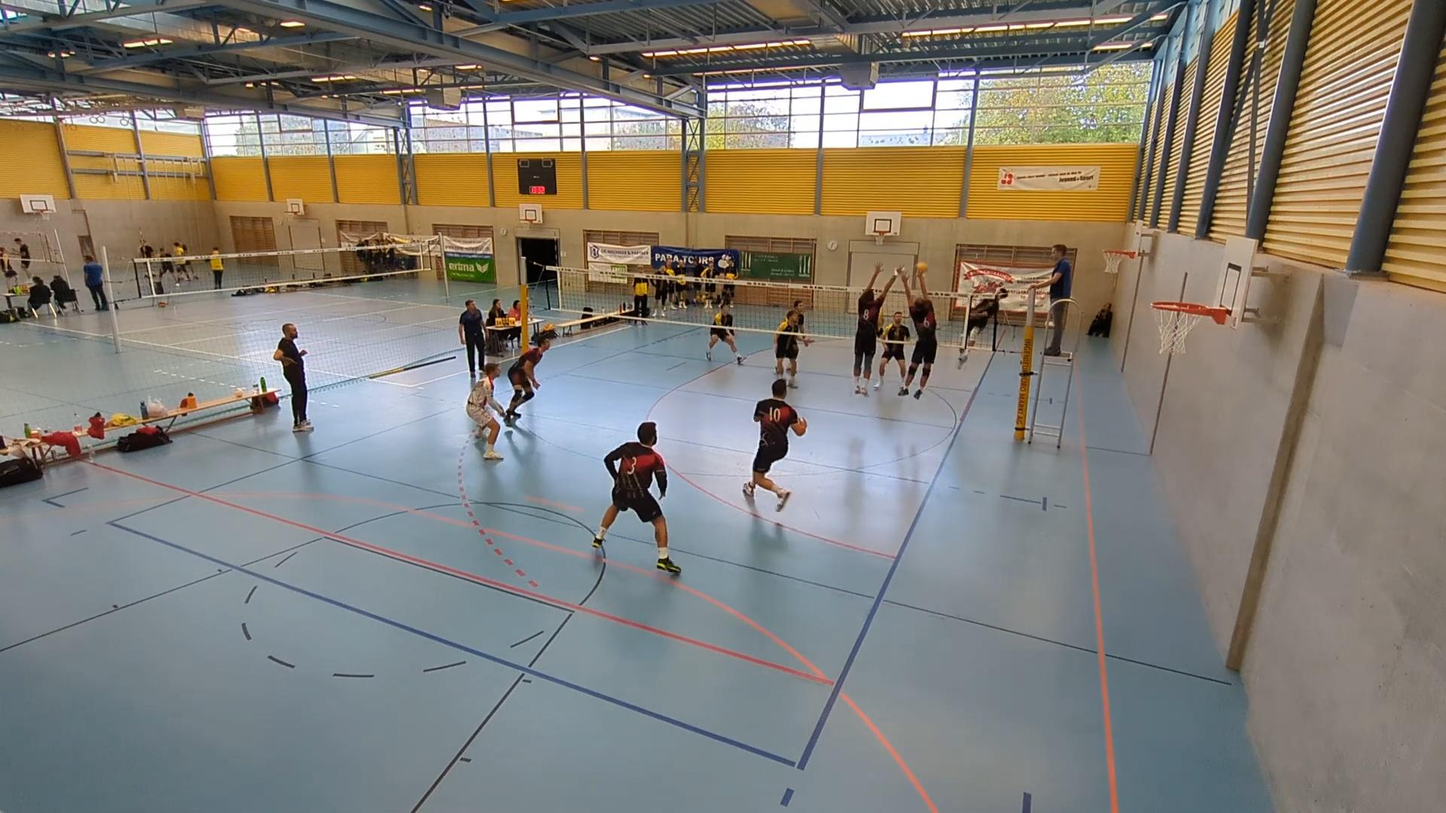Attack: (953, 271, 1009, 381)
Block: (853, 266, 898, 403), (901, 269, 939, 401)
Player: (593, 422, 681, 574), (743, 379, 806, 510), (503, 333, 550, 424), (466, 362, 503, 460), (874, 312, 910, 389), (706, 303, 743, 364), (775, 309, 802, 388), (792, 300, 811, 346)
ball: (907, 263, 928, 274)
